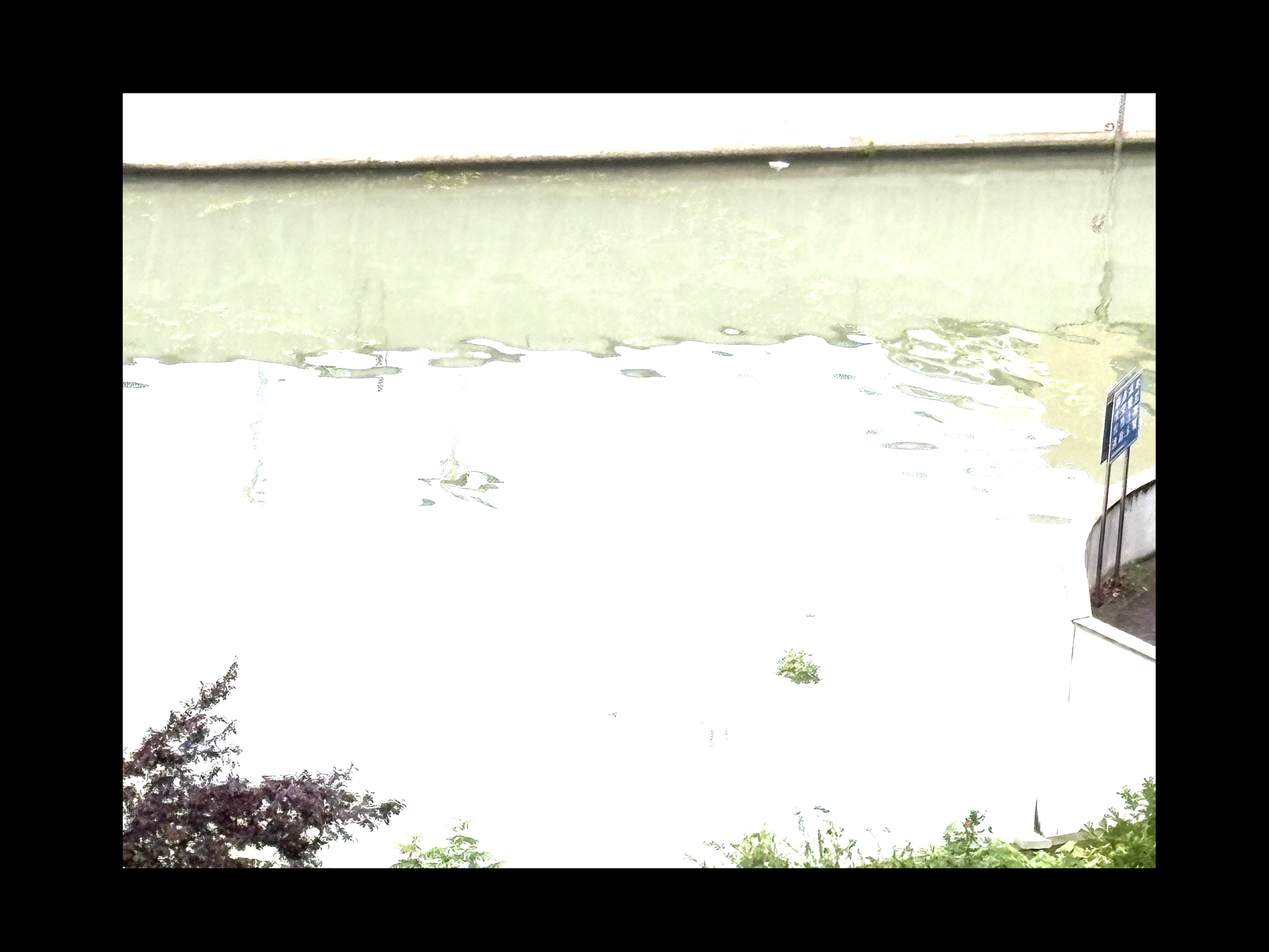Natural wastes: (775, 651, 822, 680)
Plastic wastes: (771, 154, 791, 168)
